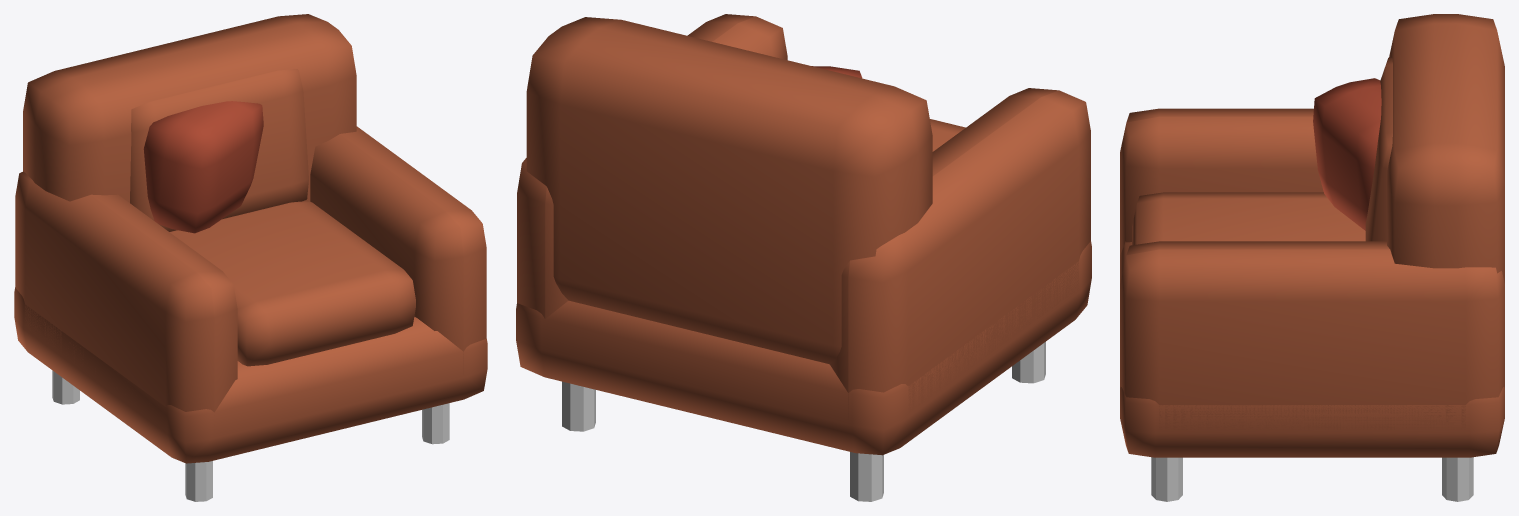
File: armchair-terracotta.glb
3 views of the same model, side by side, from view 1: azimuth 30°, elevation 25°; view 2: azimuth 150°, elevation 25°; view 3: azimuth 270°, elevation 25° (orthographic). The views are drawn at different scales.
Parts seen in each view (by area): view 1: armchair-terracotta; view 2: armchair-terracotta; view 3: armchair-terracotta.
Part boxes in pixels (x1,y1,x2,y2): armchair-terracotta: (14, 14, 487, 501); armchair-terracotta: (516, 14, 1091, 501); armchair-terracotta: (1120, 14, 1504, 501).
Size of the model in its own units: 1.15 by 1.13 by 1.13.
